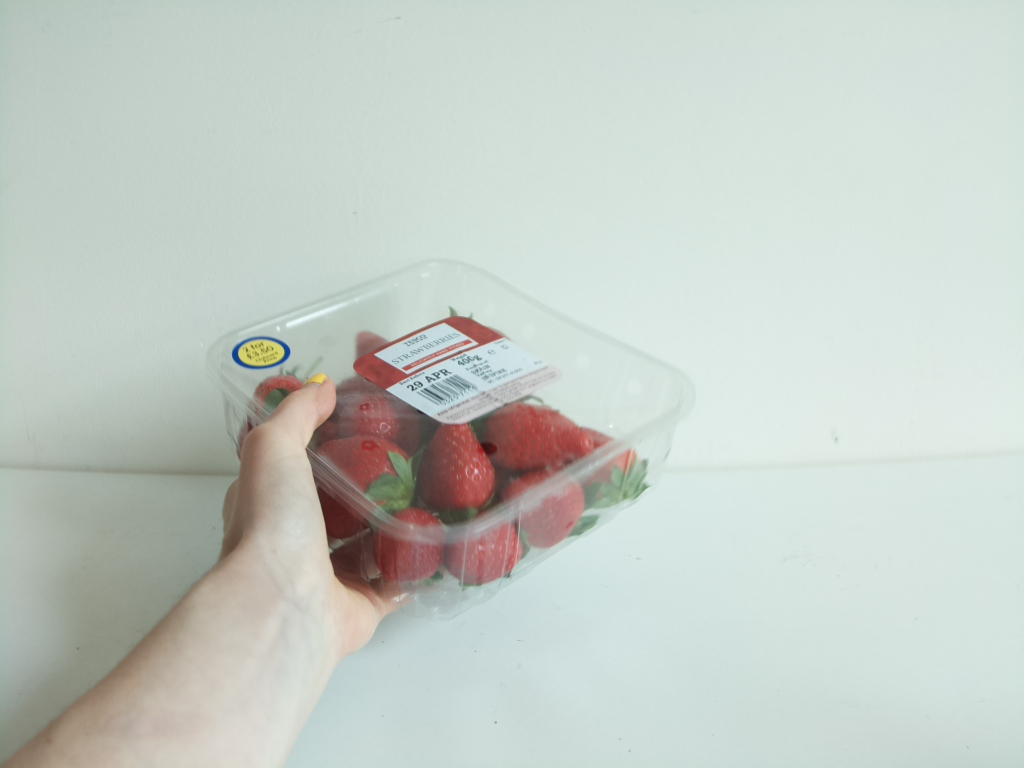soft-fruit: (203, 256, 698, 626)
